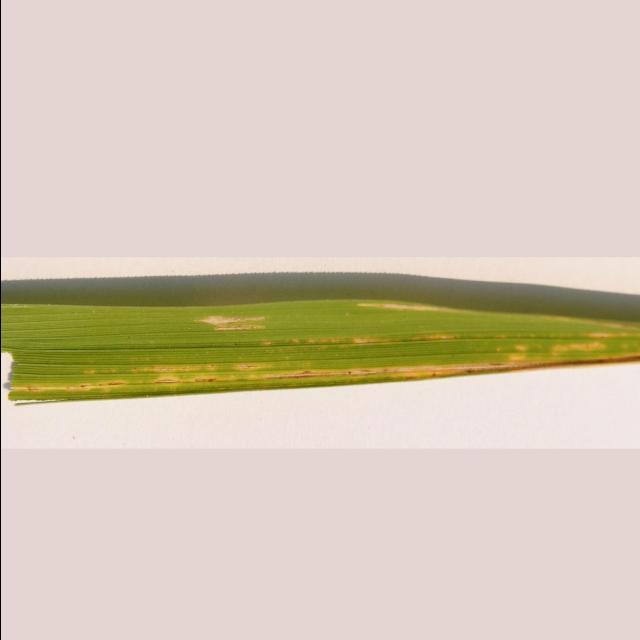Bacterial leaf blight: (0, 256, 640, 444)
